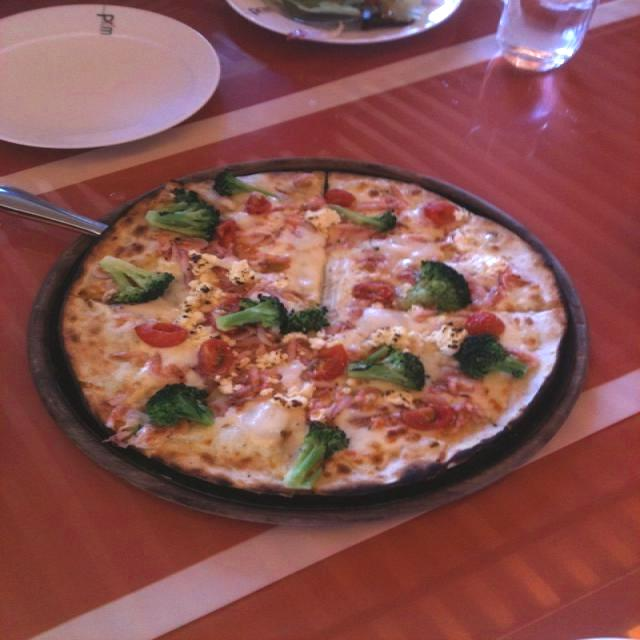Pizza: (63, 160, 581, 510)
